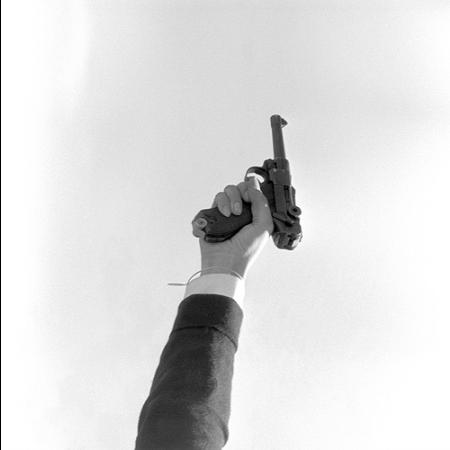Pistol: (192, 112, 304, 248)
